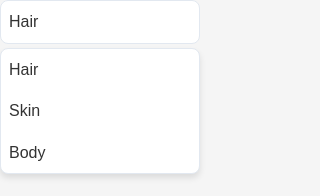
Test case: Select › uncontrolled mode › updates display label on click
Expected: the text "Hair" is shown, x1=0 y1=0 x2=200 y2=44
Click the list item "Body": (27, 152) x1=9 y1=144 x2=46 y2=161
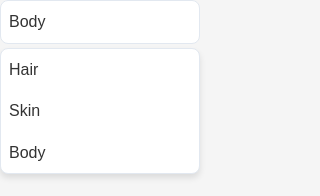
Expected: the text "Body" is shown, x1=0 y1=0 x2=200 y2=44
